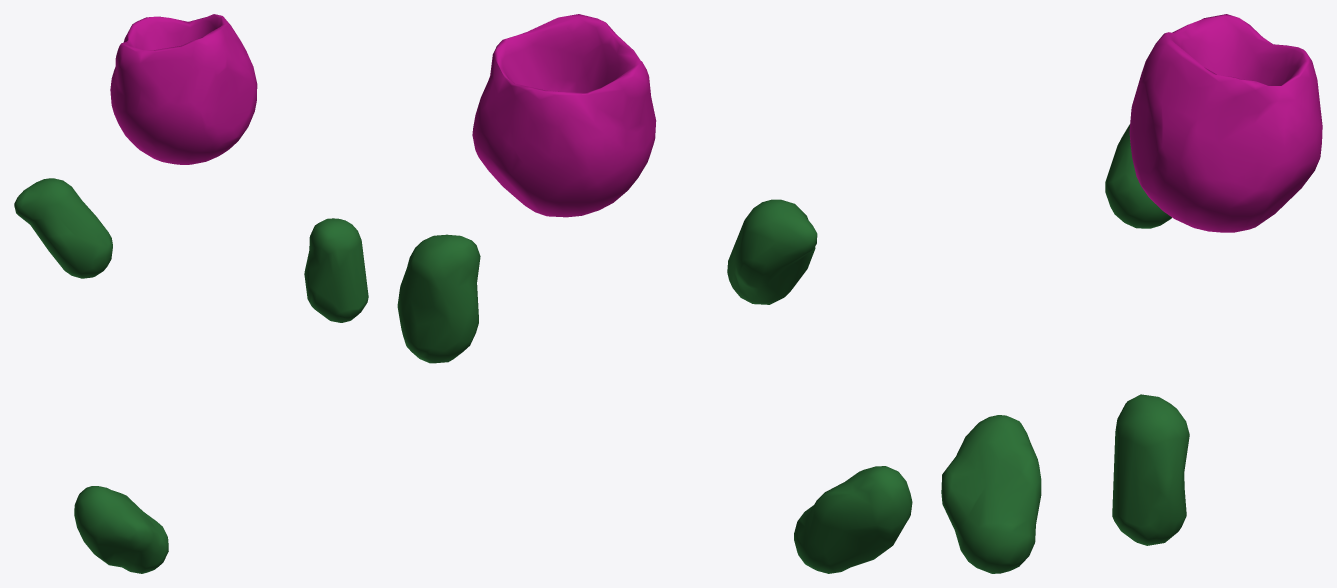
The model's file is ss_petals6.gltf.
3 renders of one model, left to right at view 1: azimuth 30°, elevation 25°; view 2: azimuth 150°, elevation 25°; view 3: azimuth 270°, elevation 25°, orthographic. The views are drawn at different scales.
Visible parts, largest first — view 1: Layer_1.005; view 2: Layer_1.005; view 3: Layer_1.005.
Boxes of the visible parts, box(x1,y1,x2,y2) form: Layer_1.005: box(14, 14, 368, 573); Layer_1.005: box(397, 14, 912, 573); Layer_1.005: box(941, 14, 1322, 573).
Size of the model in its own units: 1.01 by 1.28 by 0.7188.
